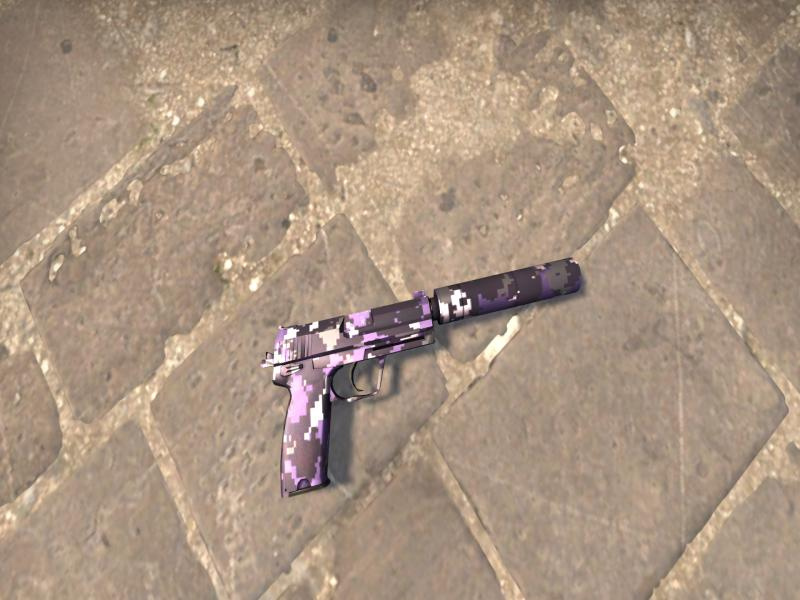USP: (262, 258, 582, 497)
